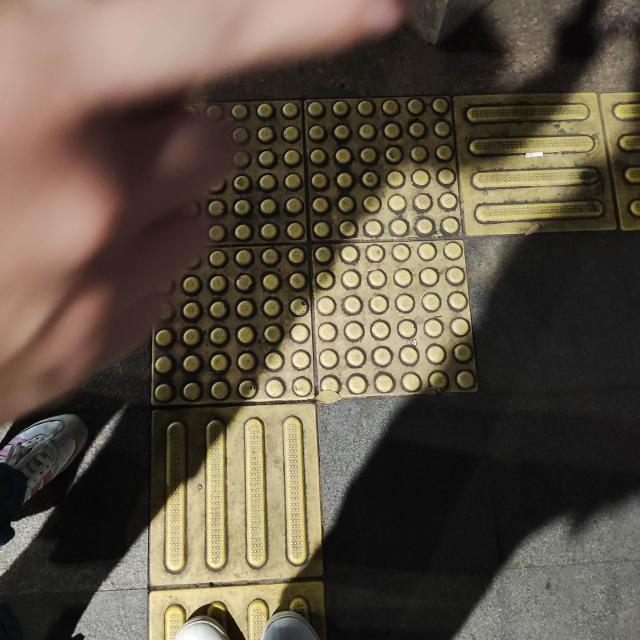kanan: (85, 69, 640, 524)
